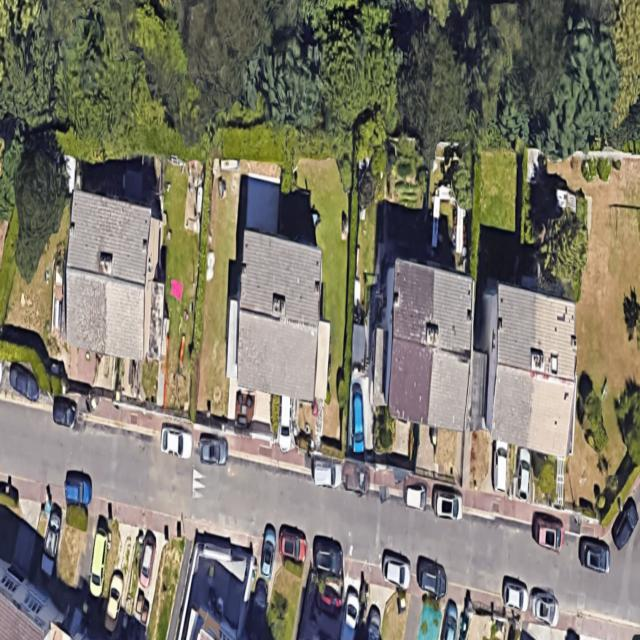maison: (473, 284, 581, 460), (225, 229, 333, 404), (59, 192, 171, 360), (371, 259, 477, 434)
